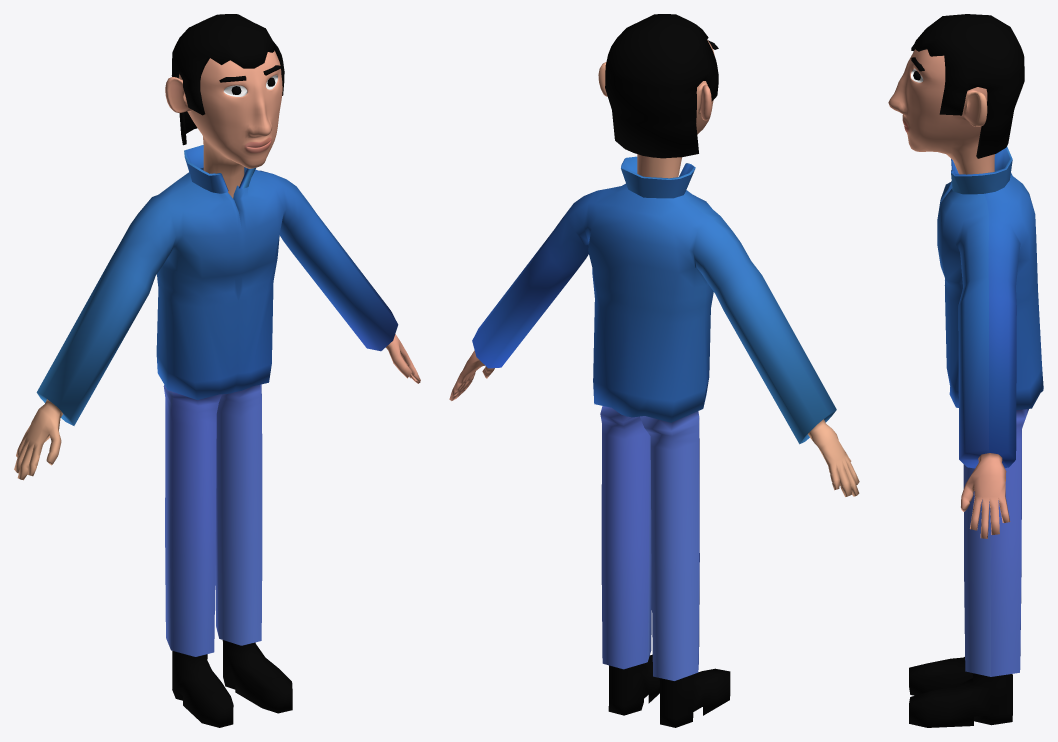
File: Male_1.fbx
3 views of the same model, side by side, from view 1: azimuth 30°, elevation 25°; view 2: azimuth 150°, elevation 25°; view 3: azimuth 270°, elevation 25° (orthographic).
Parts seen in each view (by area): view 1: Male_1; view 2: Male_1; view 3: Male_1.
Part boxes in pixels (x1=…): Male_1: x1=14, y1=14, x2=420, y2=727; Male_1: x1=449, y1=14, x2=859, y2=727; Male_1: x1=888, y1=14, x2=1043, y2=727.
Size of the model in its own units: 104 by 168 by 34.33.
Materials: 1 (1 with a texture image).
